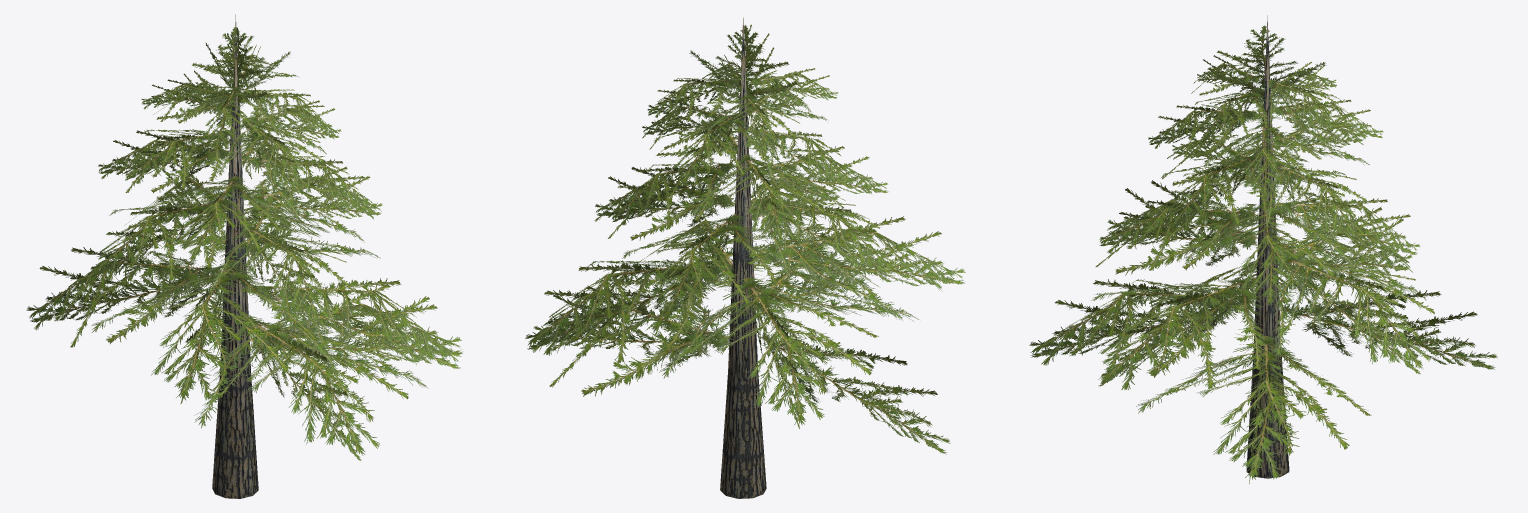
Rendered from fir2.obj.
The picture shows the model from 3 angles, left to right: view 1: azimuth 30°, elevation 25°; view 2: azimuth 150°, elevation 25°; view 3: azimuth 270°, elevation 25°; orthographic projection. The views are drawn at different scales.
Visible parts, largest first — view 1: fir_Mesh_stam_foliage, fir_Mesh_stam_trunk; view 2: fir_Mesh_stam_foliage, fir_Mesh_stam_trunk; view 3: fir_Mesh_stam_foliage, fir_Mesh_stam_trunk.
Boxes of the visible parts, x1,y1,x2,y2 form: fir_Mesh_stam_foliage: [26, 27, 462, 460]; fir_Mesh_stam_trunk: [212, 14, 258, 498]; fir_Mesh_stam_foliage: [525, 24, 965, 454]; fir_Mesh_stam_trunk: [720, 17, 766, 498]; fir_Mesh_stam_foliage: [1029, 25, 1497, 484]; fir_Mesh_stam_trunk: [1246, 15, 1289, 478].
Bounding box in the file's own units: 10 × 10 × 10.
2 materials, 2 textured.
